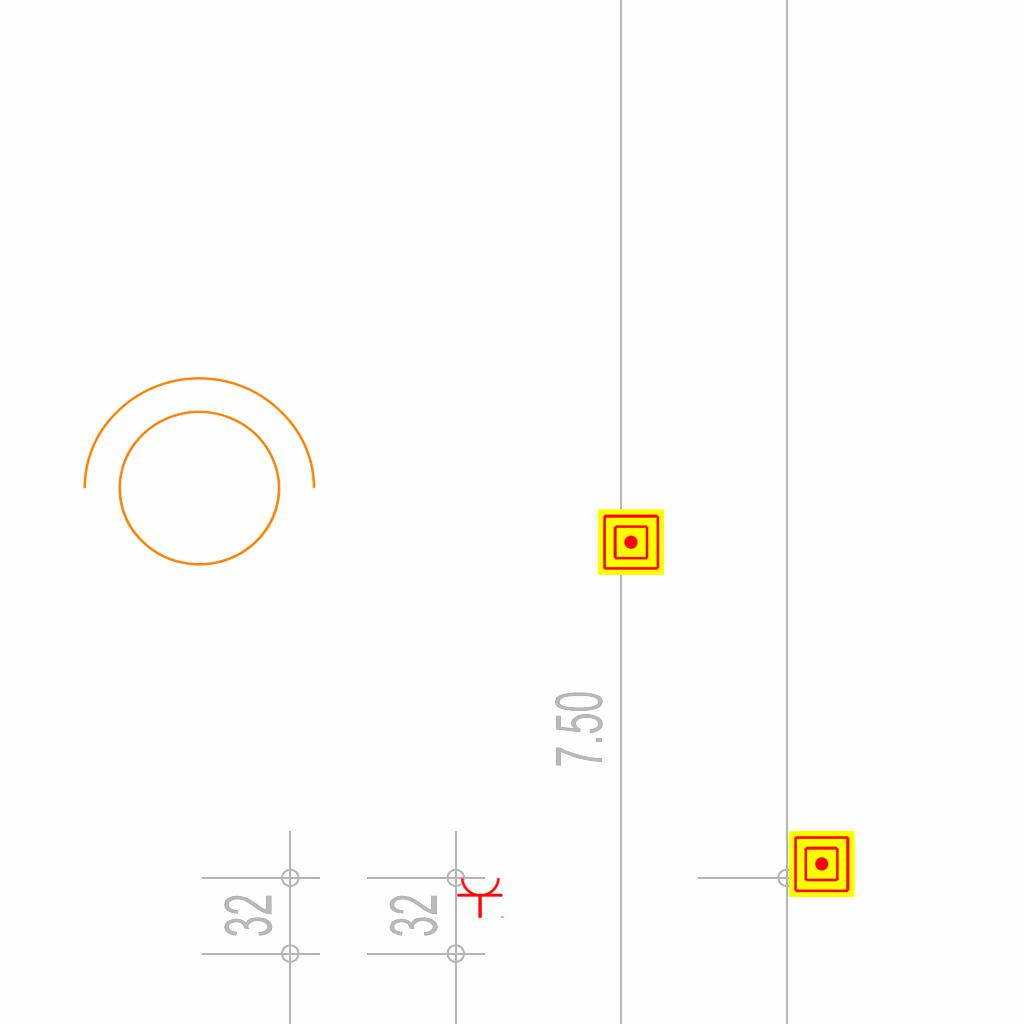NAM-Nichtautomatischer_Melder: (789, 831, 855, 897), (598, 509, 664, 575)
Scheinwerfer_fuer_Alarmbeleuchtung: (61, 366, 325, 591)
Schukosteckdose_einfach: (456, 876, 506, 919)
